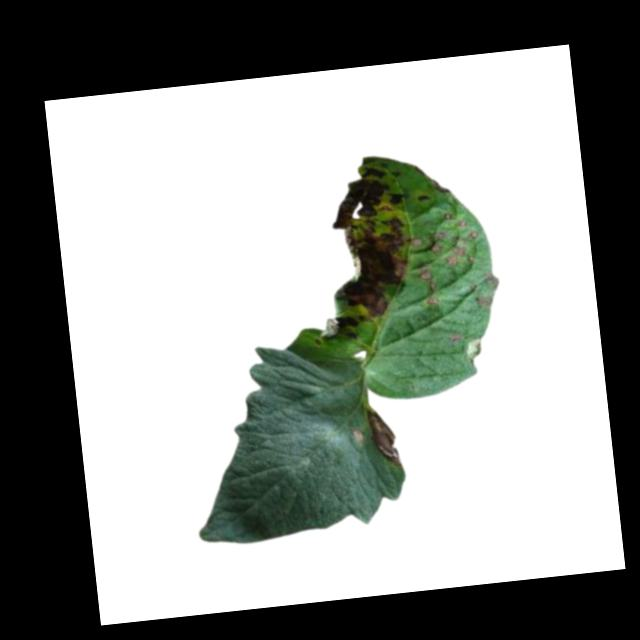Early_blight: (304, 163, 423, 339), (363, 404, 405, 470), (418, 262, 439, 308), (447, 245, 470, 267), (429, 228, 446, 255), (476, 294, 495, 310), (416, 193, 432, 205)
